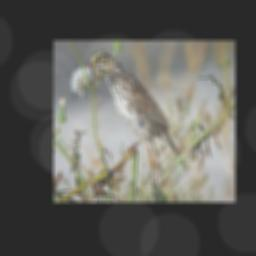Sparrow: (85, 48, 187, 167)
